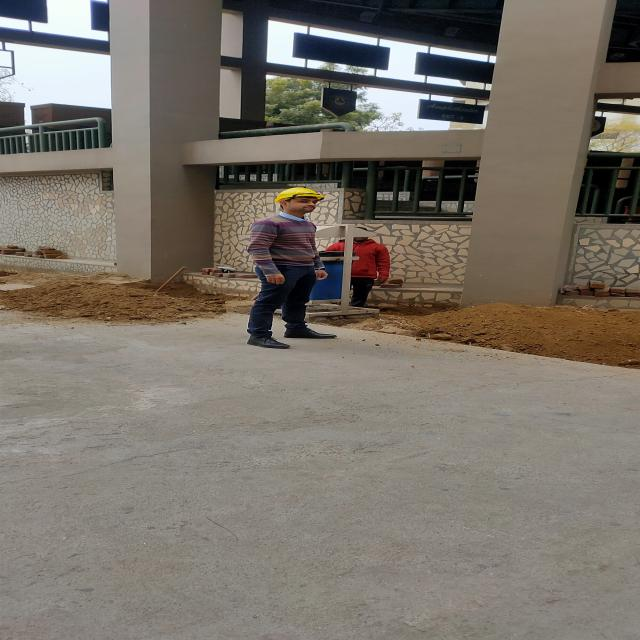no jacket: (247, 187, 338, 348)
unsafe: (344, 225, 396, 304)
